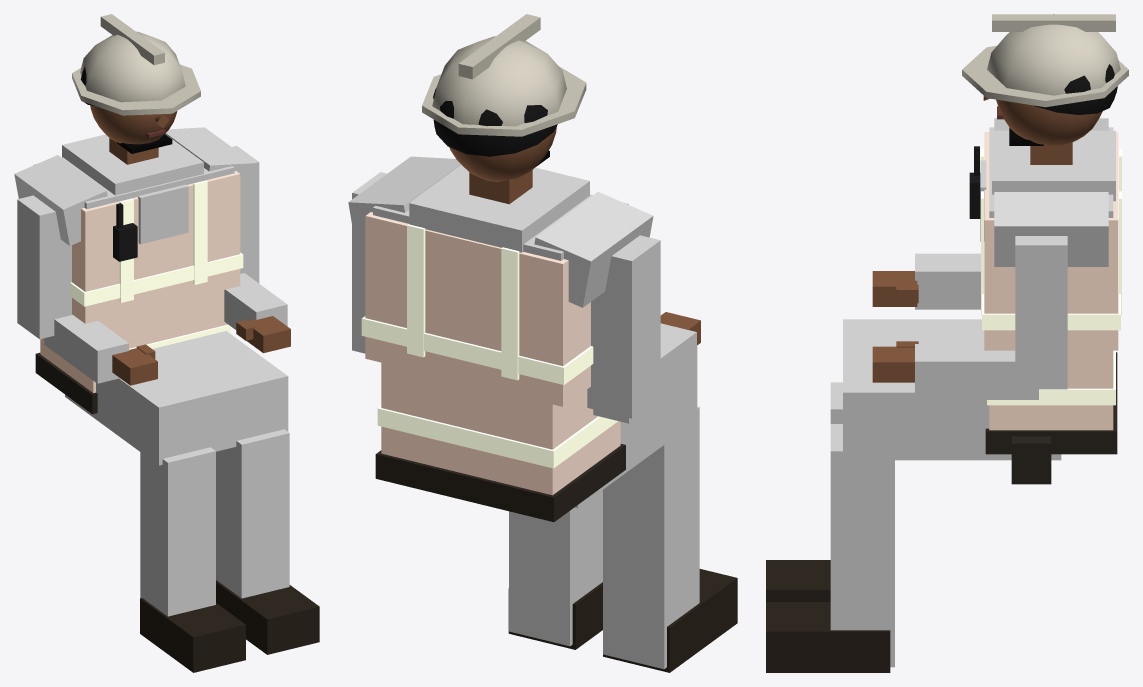
File: NPC_mta_seated.fbx
The picture shows the model from 3 angles, left to right: view 1: azimuth 30°, elevation 25°; view 2: azimuth 150°, elevation 25°; view 3: azimuth 270°, elevation 25°; orthographic projection. The views are drawn at different scales.
Parts seen in each view (by area): view 1: Body_Cloth_NavyPants.001, Body_Cloth_NavyUniform.001, Body_Cloth_HiVisVest.001, Body_WorkBoots.001, Head_HardHat.001, Body_ReflectiveBand.001, Body_Skin.009, Head_Skin.009, Body_Mat_2b241c.001, Body_Shoe.007; view 2: Body_Cloth_HiVisVest.001, Body_Cloth_NavyUniform.001, Body_Cloth_NavyPants.001, Body_ReflectiveBand.001, Head_HardHat.001, Body_Mat_2b241c.001, Body_WorkBoots.001, Head_Hair.009, Head_Skin.009, Body_Skin.009; view 3: Body_Cloth_NavyUniform.001, Body_Cloth_NavyPants.001, Body_Cloth_HiVisVest.001, Head_HardHat.001, Body_WorkBoots.001, Body_Mat_2b241c.001, Body_ReflectiveBand.001, Body_Skin.009, Head_Skin.009, Head_Hair.009, Body_Shoe.007.
Boxes of the visible parts, <box> form: Body_Cloth_NavyPants.001: <box>65,331,289,616</box>; Body_Cloth_NavyUniform.001: <box>14,127,287,383</box>; Body_Cloth_HiVisVest.001: <box>40,171,240,392</box>; Body_WorkBoots.001: <box>140,580,319,672</box>; Head_HardHat.001: <box>72,14,200,115</box>; Body_ReflectiveBand.001: <box>70,180,243,349</box>; Body_Skin.009: <box>109,138,290,385</box>; Head_Skin.009: <box>90,105,177,144</box>; Body_Mat_2b241c.001: <box>35,352,97,414</box>; Body_Shoe.007: <box>113,203,137,261</box>; Body_Cloth_HiVisVest.001: <box>365,212,620,495</box>; Body_Cloth_NavyUniform.001: <box>348,156,696,423</box>; Body_Cloth_NavyPants.001: <box>509,347,699,669</box>; Body_ReflectiveBand.001: <box>361,224,617,468</box>; Head_HardHat.001: <box>422,14,586,136</box>; Body_Mat_2b241c.001: <box>375,444,625,522</box>; Body_WorkBoots.001: <box>508,569,737,672</box>; Head_Hair.009: <box>433,88,557,156</box>; Head_Skin.009: <box>449,126,556,181</box>; Body_Skin.009: <box>469,170,700,345</box>; Body_Cloth_NavyUniform.001: <box>915,118,1115,399</box>; Body_Cloth_NavyPants.001: <box>830,319,1061,667</box>; Body_Cloth_HiVisVest.001: <box>984,132,1118,430</box>; Head_HardHat.001: <box>962,14,1128,107</box>; Body_WorkBoots.001: <box>766,560,890,672</box>; Body_Mat_2b241c.001: <box>985,352,1117,484</box>; Body_ReflectiveBand.001: <box>981,149,1121,405</box>; Body_Skin.009: <box>872,142,1072,382</box>; Head_Skin.009: <box>983,96,1102,146</box>; Head_Hair.009: <box>1034,64,1117,114</box>; Body_Shoe.007: <box>969,146,980,218</box>.
Size of the model in its own units: 0.595 by 1.38 by 0.731.
